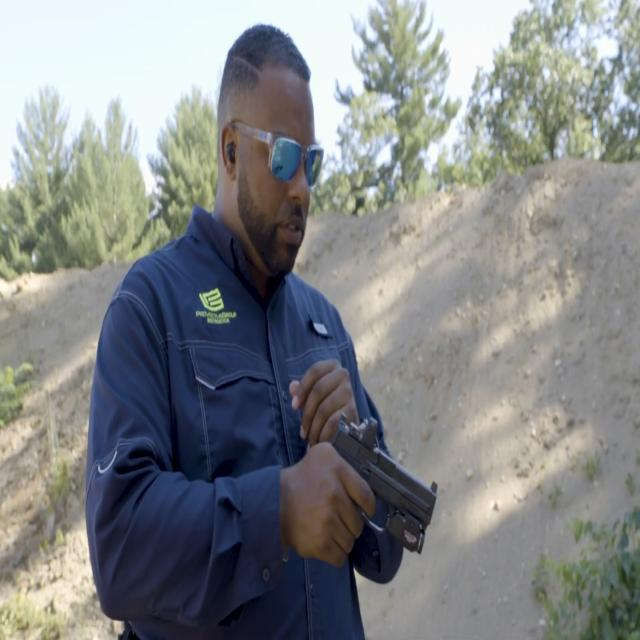Gun_Holder: (294, 372, 433, 586)
Person: (69, 39, 432, 640)
